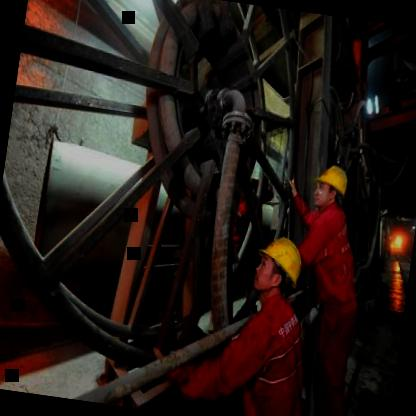helmet: (246, 228, 306, 302), (310, 160, 352, 214)
